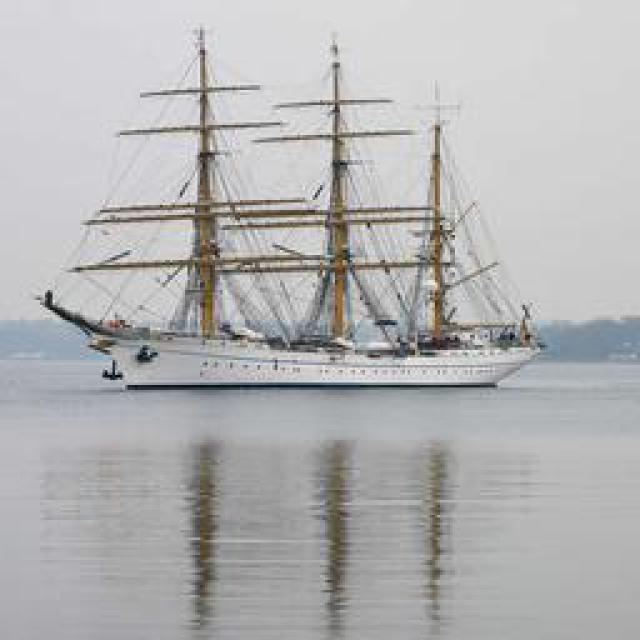Ship: (39, 24, 554, 389)
